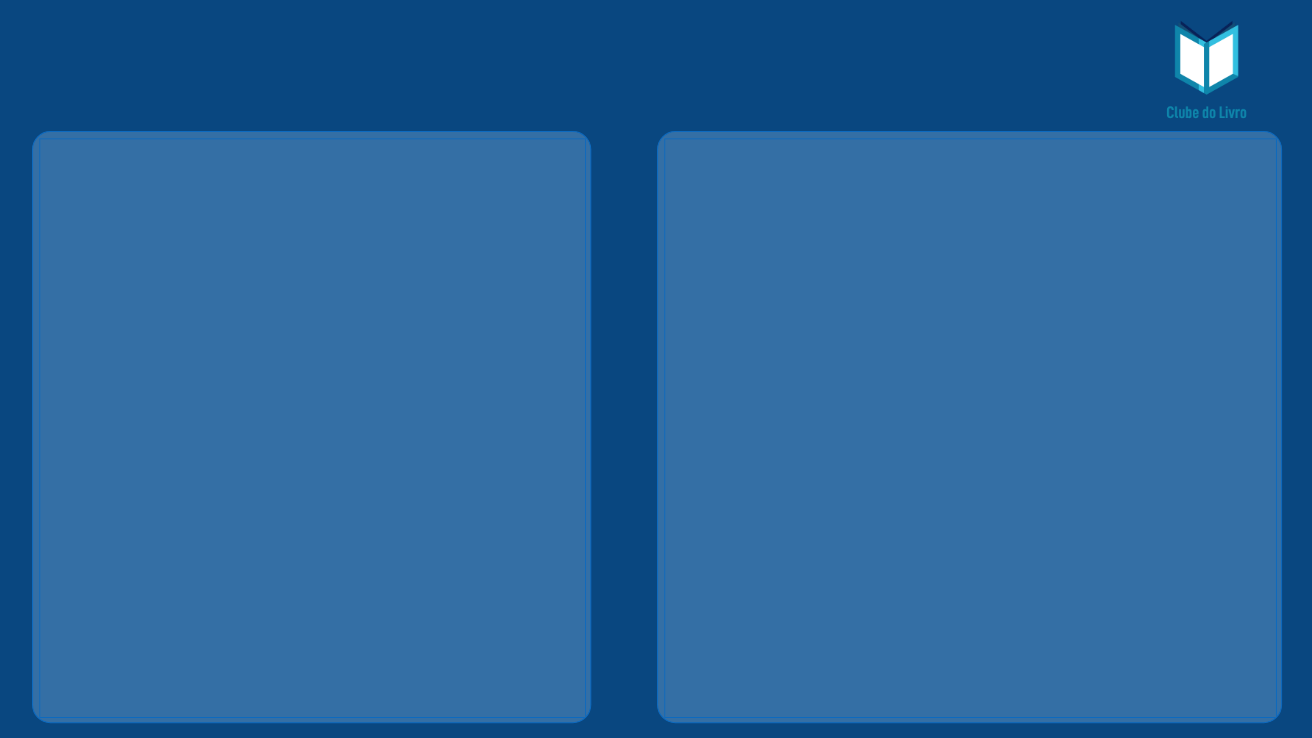

What the dashboard file says about the page in this screenshot:
{"tool":"powerbi","page":{"name":"Dash 3","canvas":[1280,720],"ordinal":8},"visuals":[{"type":"map","fields":{"Y":["Clientes.Latitude"]},"box":[649.7,185,607.8,519.9],"z":0},{"type":"slicer","fields":{"Values":["Clientes.Cidade"]},"box":[649.7,126.4,607.8,58.6],"z":1000},{"type":"barChart","fields":{"Category":["Catálogo de livros.Titulo"],"Y":["Sum(Catálogo de livros.Valor)"]},"box":[47.7,196.7,488.9,508.2],"z":2000},{"type":"slicer","fields":{"Values":["Catálogo de livros.Titulo"]},"box":[23.4,126.4,533.3,58.6],"z":3000},{"type":"actionButton","box":[20.1,10,46,40.2],"z":3002}]}

Visuals, with their boxes in screenshot pixels (x1, y1, x2, y2), scaled from the page's 1280x720 canvas onto the 1312x738 screenshot:
map - Clientes.Latitude: BBox(666, 190, 1289, 723)
slicer - Clientes.Cidade: BBox(666, 130, 1289, 190)
barChart - Catálogo de livros.Titulo x Sum(Catálogo de livros.Valor): BBox(49, 202, 550, 723)
slicer - Catálogo de livros.Titulo: BBox(24, 130, 571, 190)
actionButton: BBox(21, 10, 68, 51)
